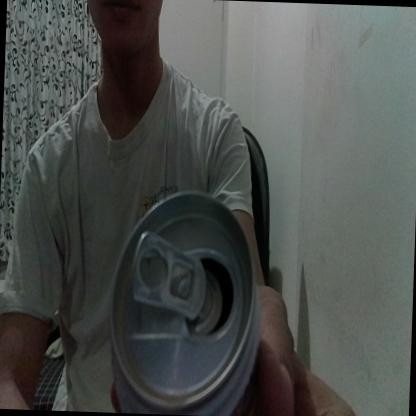alumunium_can: (103, 189, 273, 416)
